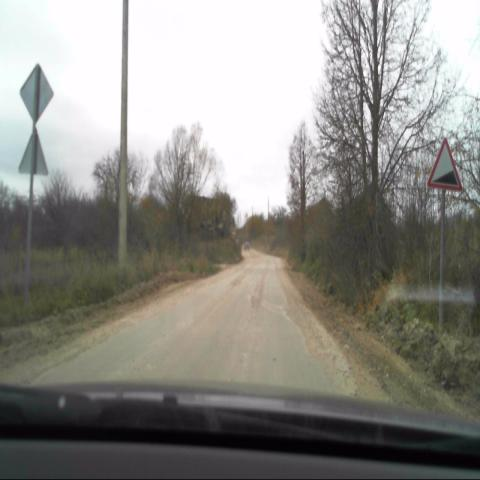1_14: (428, 137, 463, 193)
